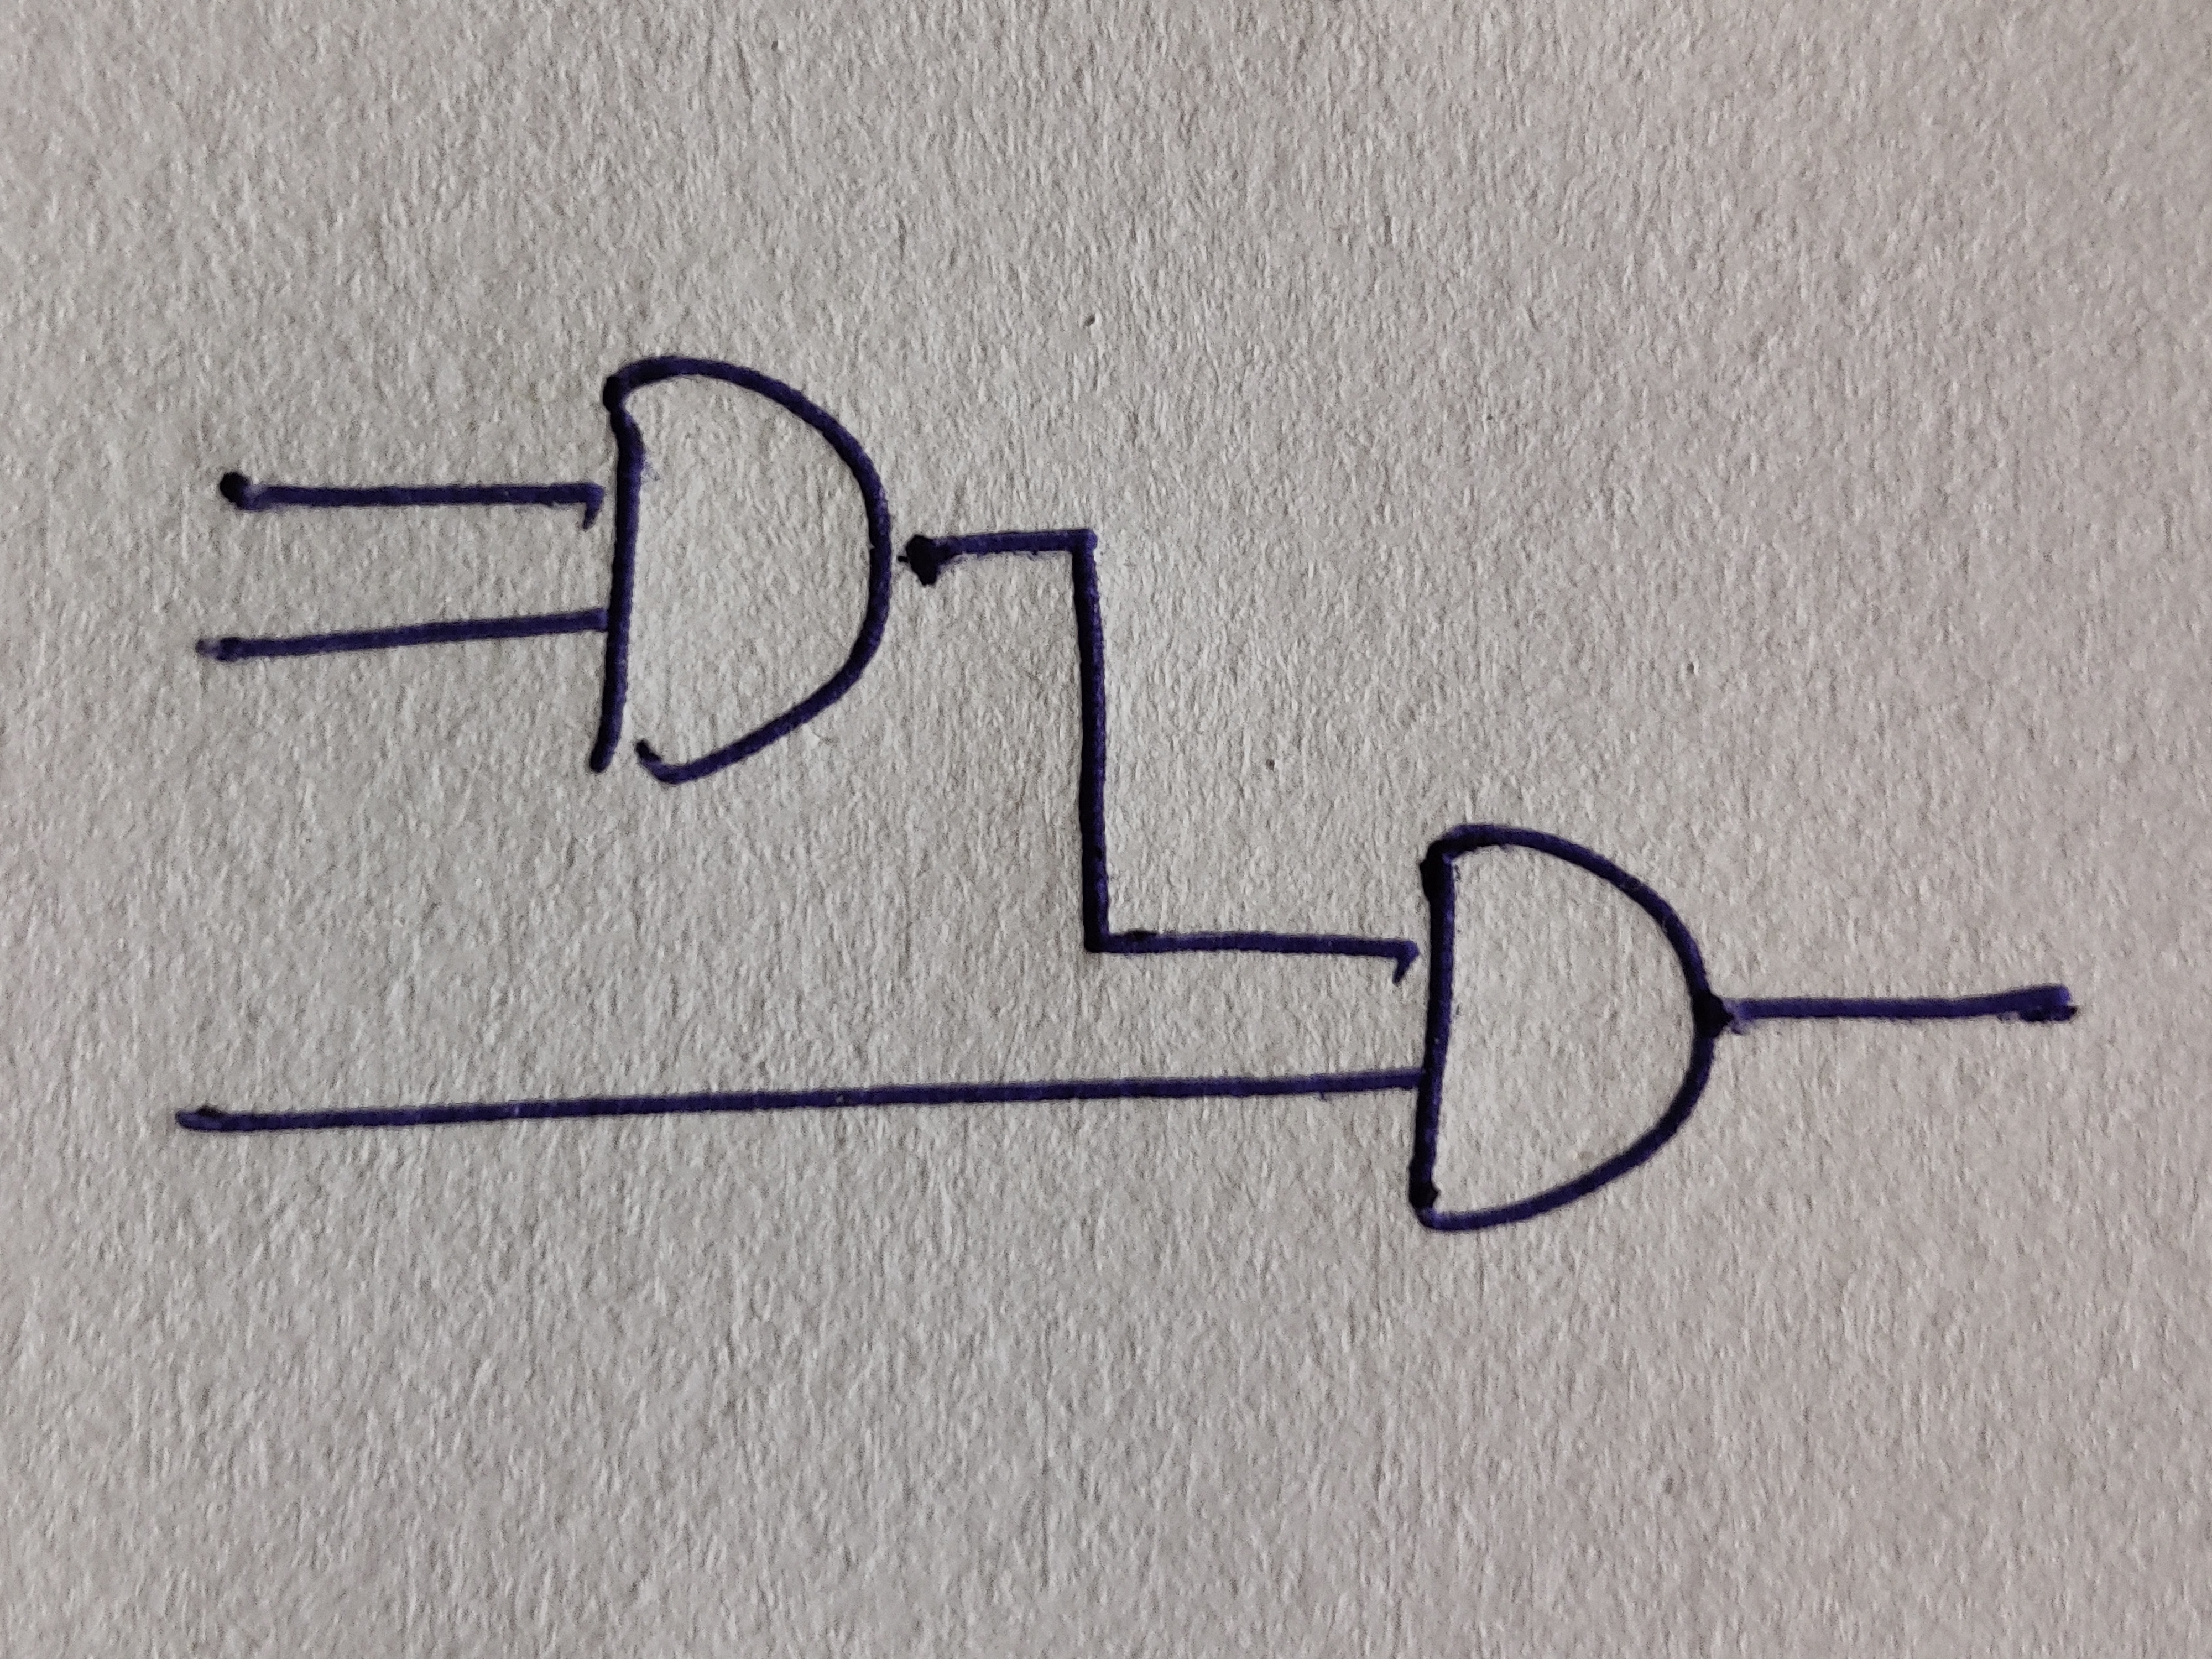and: (589, 359, 894, 786), (1407, 826, 1714, 1234)
